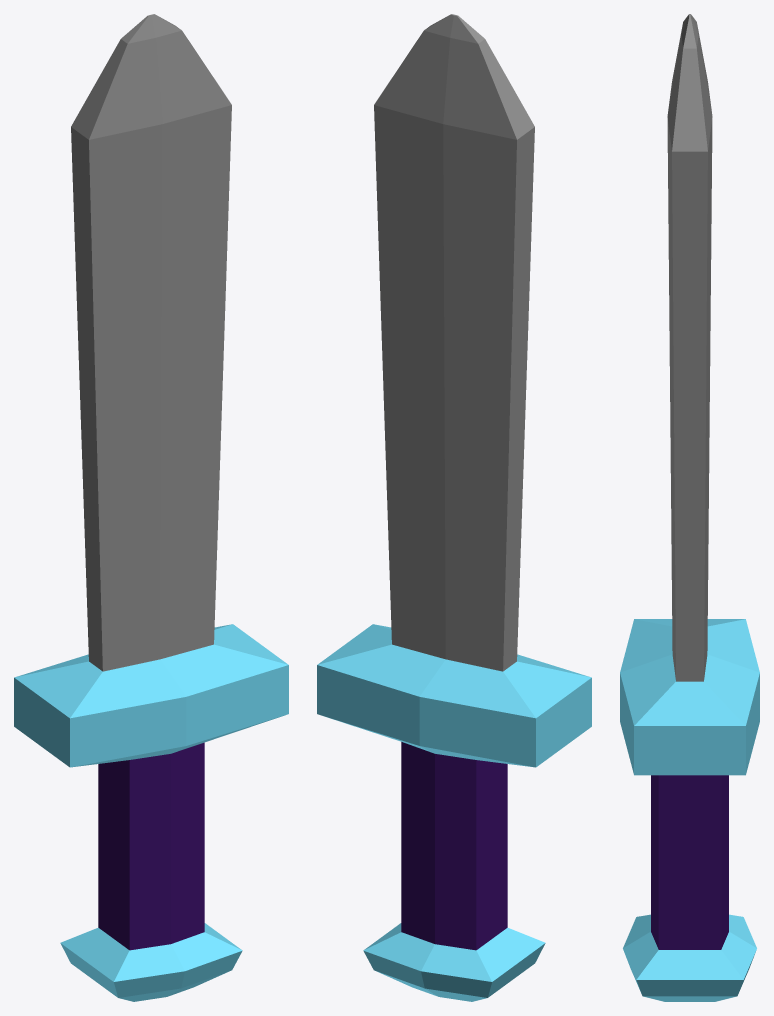
The model's file is sword.fbx.
3 views of the same model, side by side, from view 1: azimuth 30°, elevation 25°; view 2: azimuth 150°, elevation 25°; view 3: azimuth 270°, elevation 25° (orthographic).
Parts seen in each view (by area): view 1: Cube; view 2: Cube; view 3: Cube.
Part boxes in pixels (left/top/right/bottom): Cube: left=14, top=14, right=288, bottom=1001; Cube: left=317, top=14, right=591, bottom=1001; Cube: left=620, top=14, right=759, bottom=1001.
Bounding box in the file's own units: 158 × 668 × 87.14.
